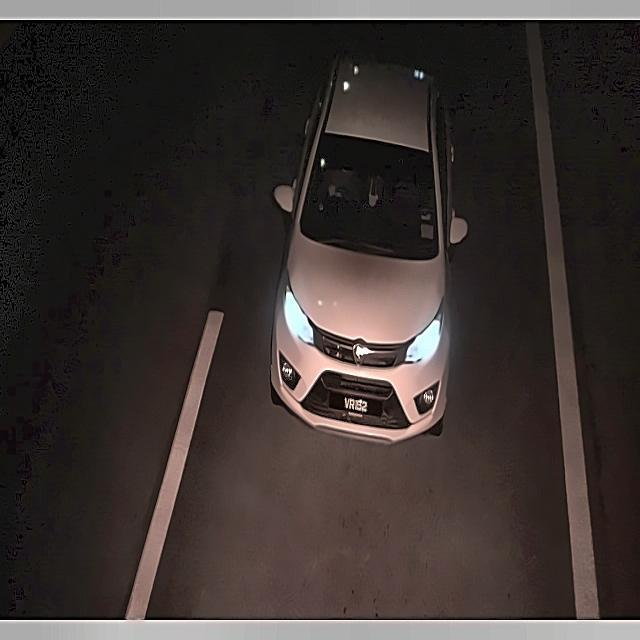car: (334, 390, 376, 419)
